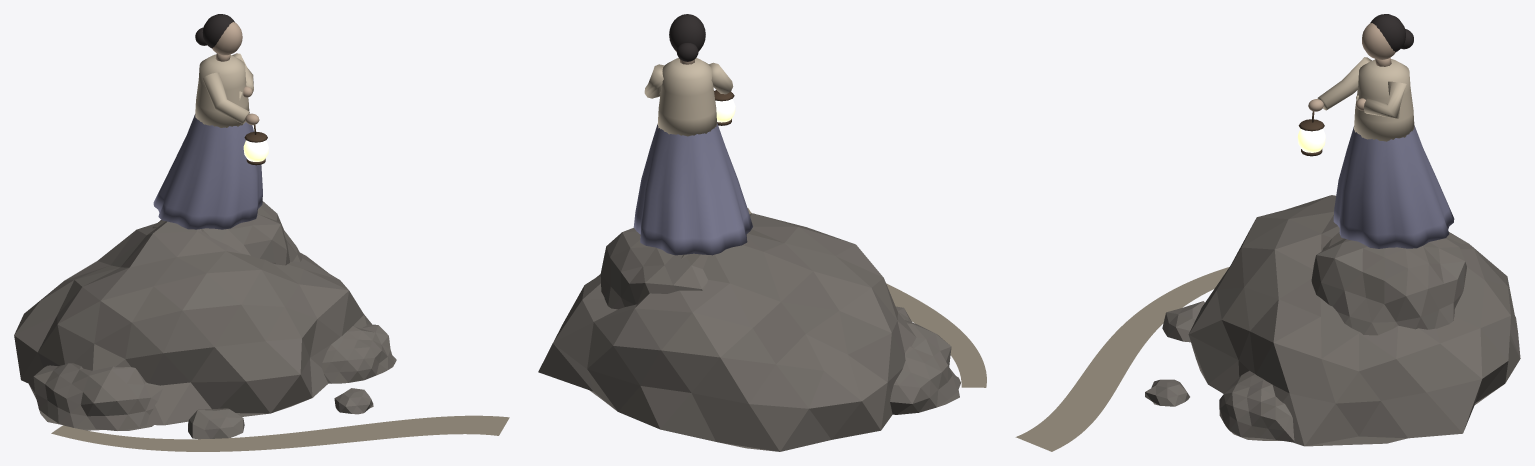
The model's file is jeongeup.glb.
The picture shows the model from 3 angles, left to right: view 1: azimuth 30°, elevation 25°; view 2: azimuth 150°, elevation 25°; view 3: azimuth 270°, elevation 25°; orthographic projection. The views are drawn at different scales.
Visible parts, largest first — view 1: JE_Rocks, JE_Woman, JE_Path; view 2: JE_Rocks, JE_Woman, JE_Path; view 3: JE_Rocks, JE_Woman, JE_Path, JE_Lantern.
Boxes of the visible parts, <box> form: JE_Rocks: <box>14,201,396,439</box>; JE_Woman: <box>153,14,267,229</box>; JE_Path: <box>51,415,509,451</box>; JE_Rocks: <box>538,213,960,451</box>; JE_Woman: <box>633,14,752,255</box>; JE_Path: <box>747,208,986,387</box>; JE_Rocks: <box>1145,195,1520,446</box>; JE_Woman: <box>1298,14,1454,248</box>; JE_Path: <box>1015,267,1229,451</box>; JE_Lantern: <box>1297,128,1325,152</box>.
Size of the model in its own units: 1.28 by 1.11 by 1.4.
